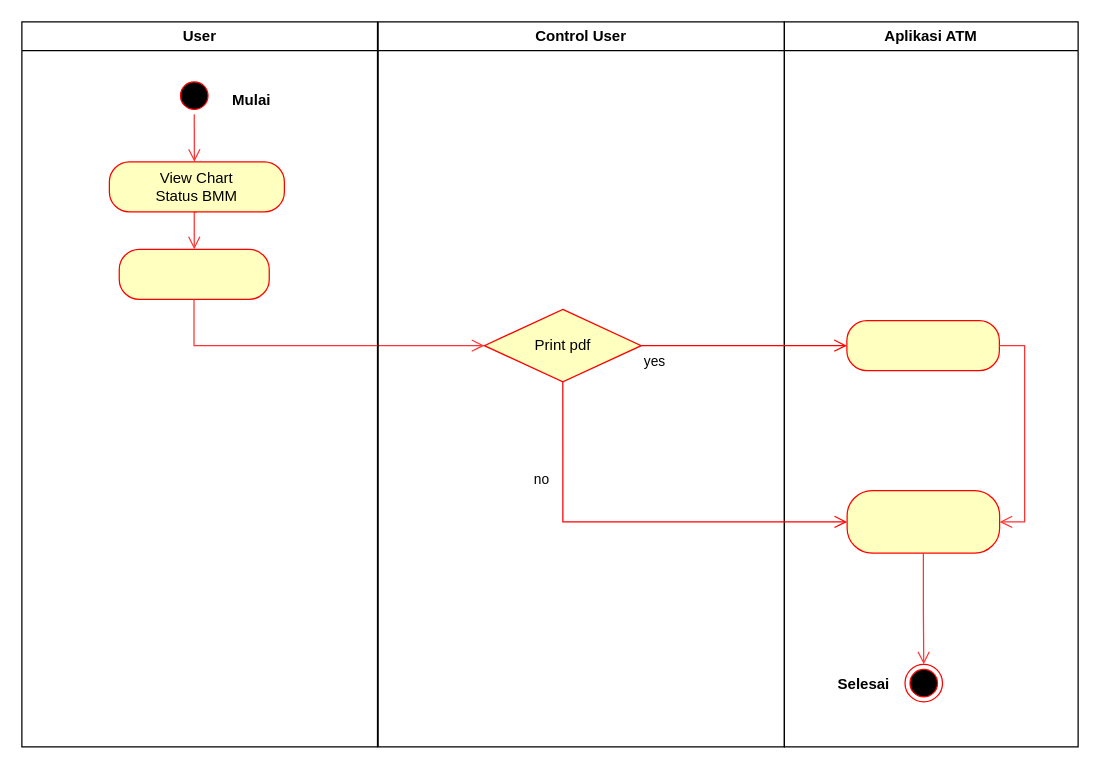
The diagram is 1100 pixels wide and 769 high, and some of its shapes have lost their labels. Each missing label, with the centre of its shape:
Cetak: the point at 922,345
Cetak Chart: the point at 193,273
Menu Chart Status BMM: the point at 923,521
